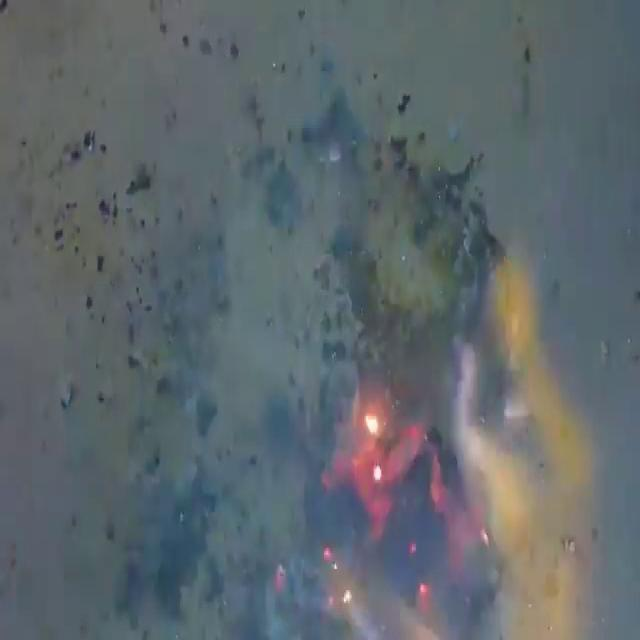Fire: (266, 147, 603, 639)
